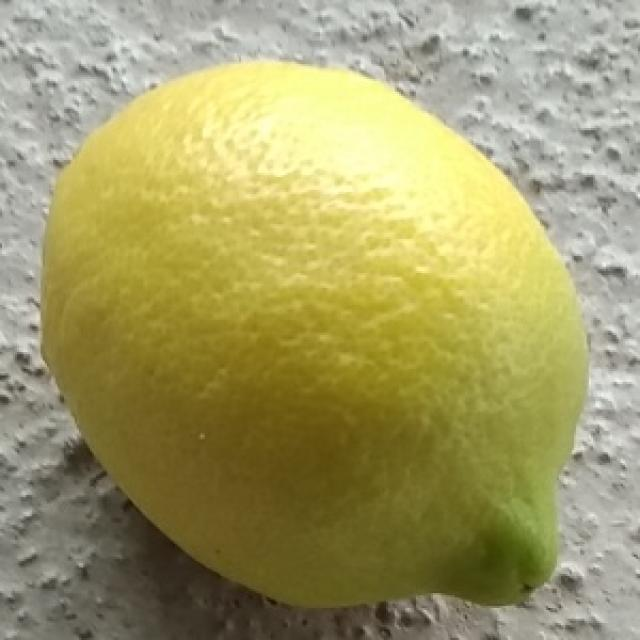Lemon: (39, 55, 592, 612)
